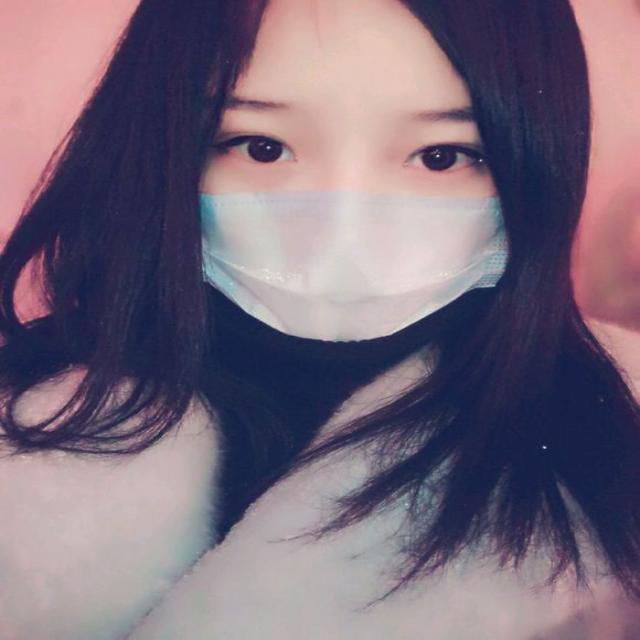mask: (188, 1, 496, 342)
